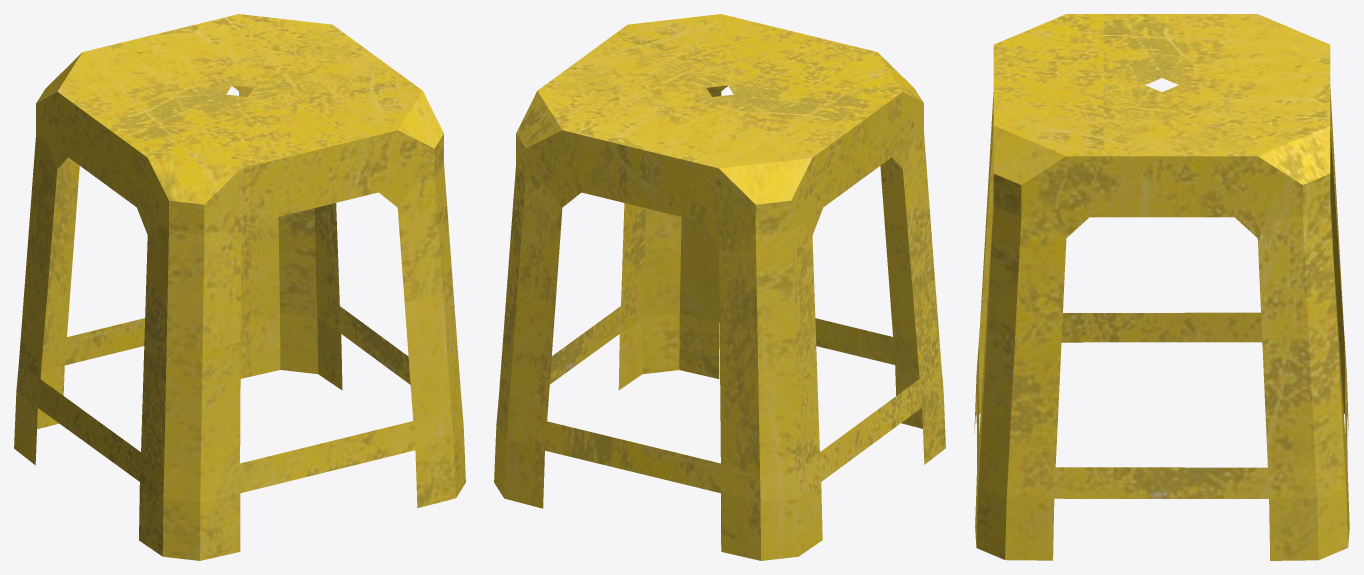
The model's file is Stool.glb.
3 renders of one model, left to right at view 1: azimuth 30°, elevation 25°; view 2: azimuth 150°, elevation 25°; view 3: azimuth 270°, elevation 25°, orthographic. The views are drawn at different scales.
Parts seen in each view (by area): view 1: Plane.001; view 2: Plane.001; view 3: Plane.001.
Boxes of the visible parts, x1,y1,x2,y2 form: Plane.001: (14,14,465,560); Plane.001: (494,14,945,560); Plane.001: (974,14,1349,560).
Bounding box in the file's own units: 2.23 × 2.6 × 2.23.
Materials: 1 (1 with a texture image).
